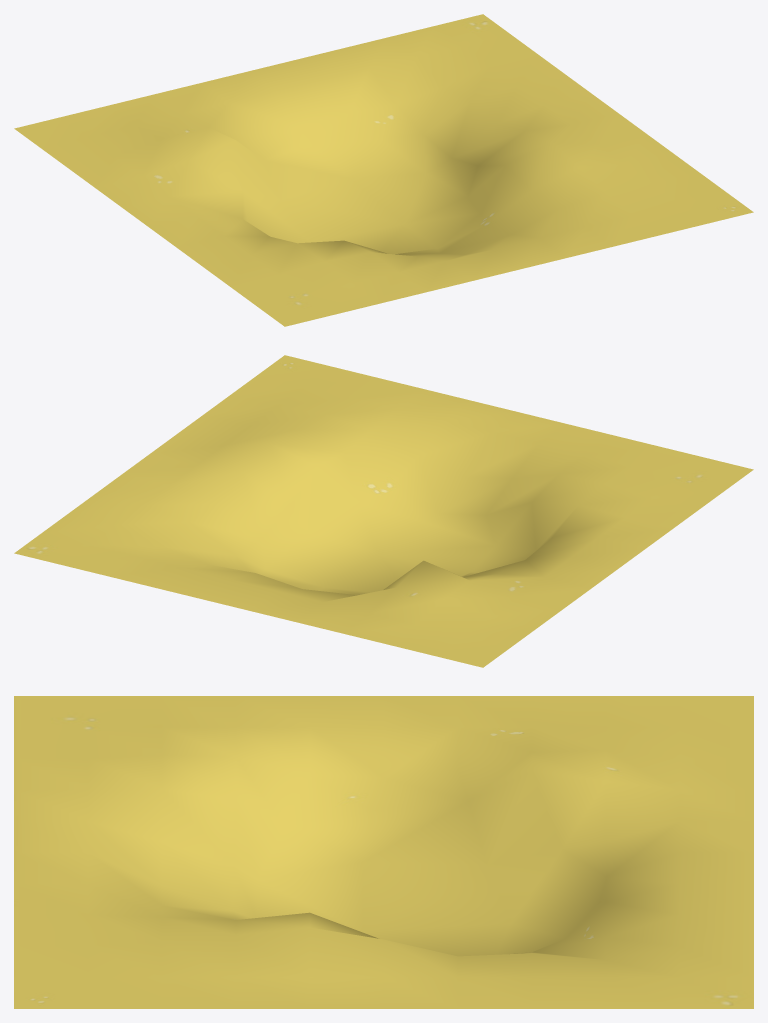
The model's file is Sand_Plane_Medium_B.fbx.
3 renders of one model, top to bottom at view 1: azimuth 30°, elevation 25°; view 2: azimuth 150°, elevation 25°; view 3: azimuth 270°, elevation 25°, orthographic. The views are drawn at different scales.
Parts seen in each view (by area): view 1: Sand_Plane_Medium_B; view 2: Sand_Plane_Medium_B; view 3: Sand_Plane_Medium_B.
Part boxes in pixels (x1=…): Sand_Plane_Medium_B: x1=14, y1=14, x2=753, y2=326; Sand_Plane_Medium_B: x1=14, y1=355, x2=753, y2=667; Sand_Plane_Medium_B: x1=14, y1=696, x2=753, y2=1008.
Size of the model in its own units: 2000 by 2000 by 268.
Materials: 1 (1 with a texture image).
